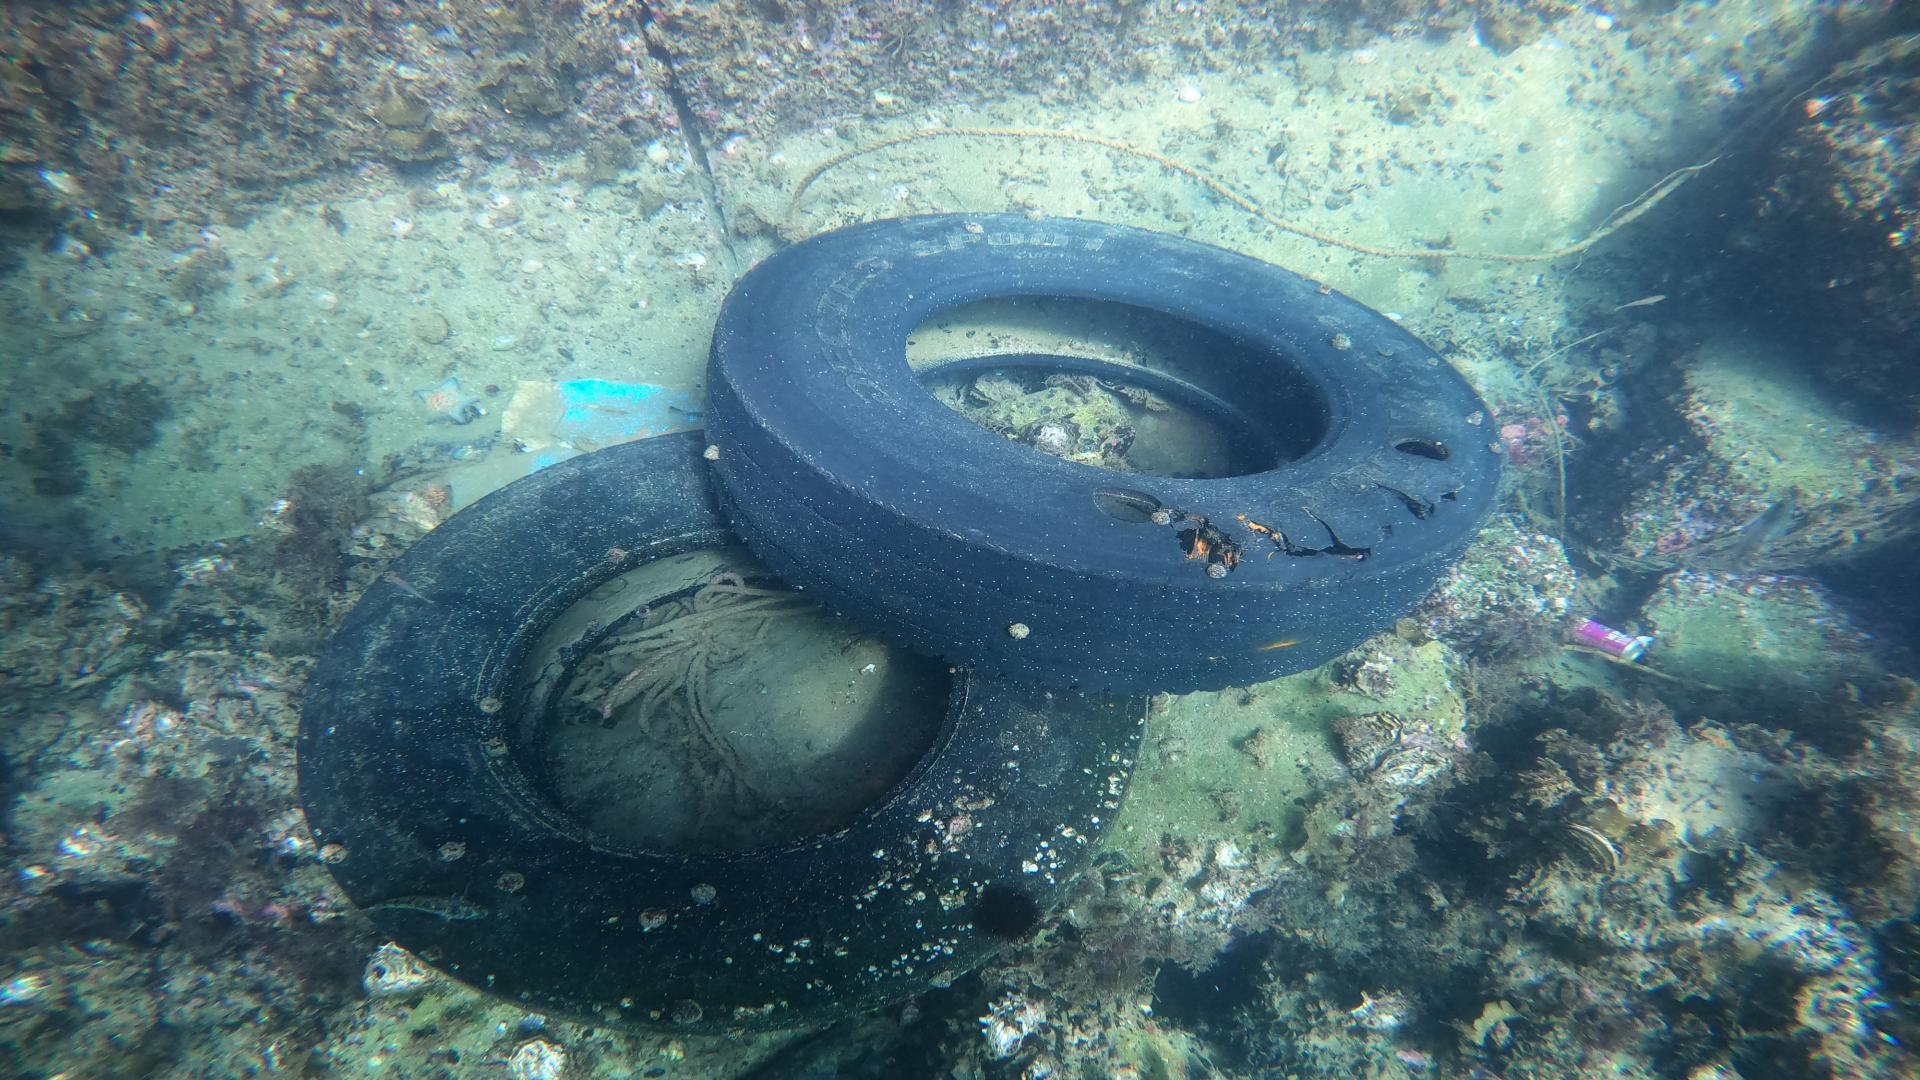bundle of ropes: (578, 570, 812, 785)
rope: (783, 69, 1815, 260)
tire: (297, 429, 1145, 1039), (698, 214, 1505, 694)
